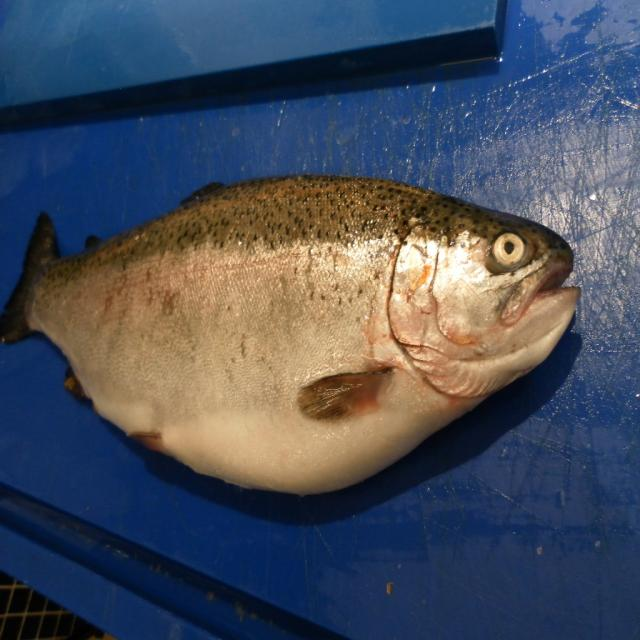Trout-alabalik-: (0, 175, 580, 494)
